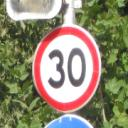speed_limit_30: (33, 25, 98, 111)
